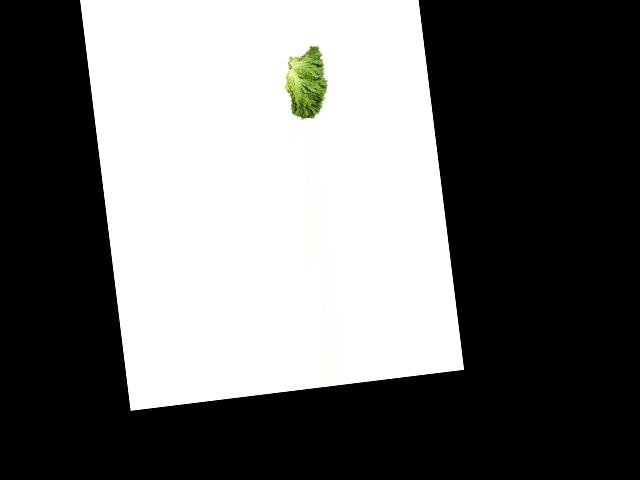lettuce: (277, 44, 336, 122)
